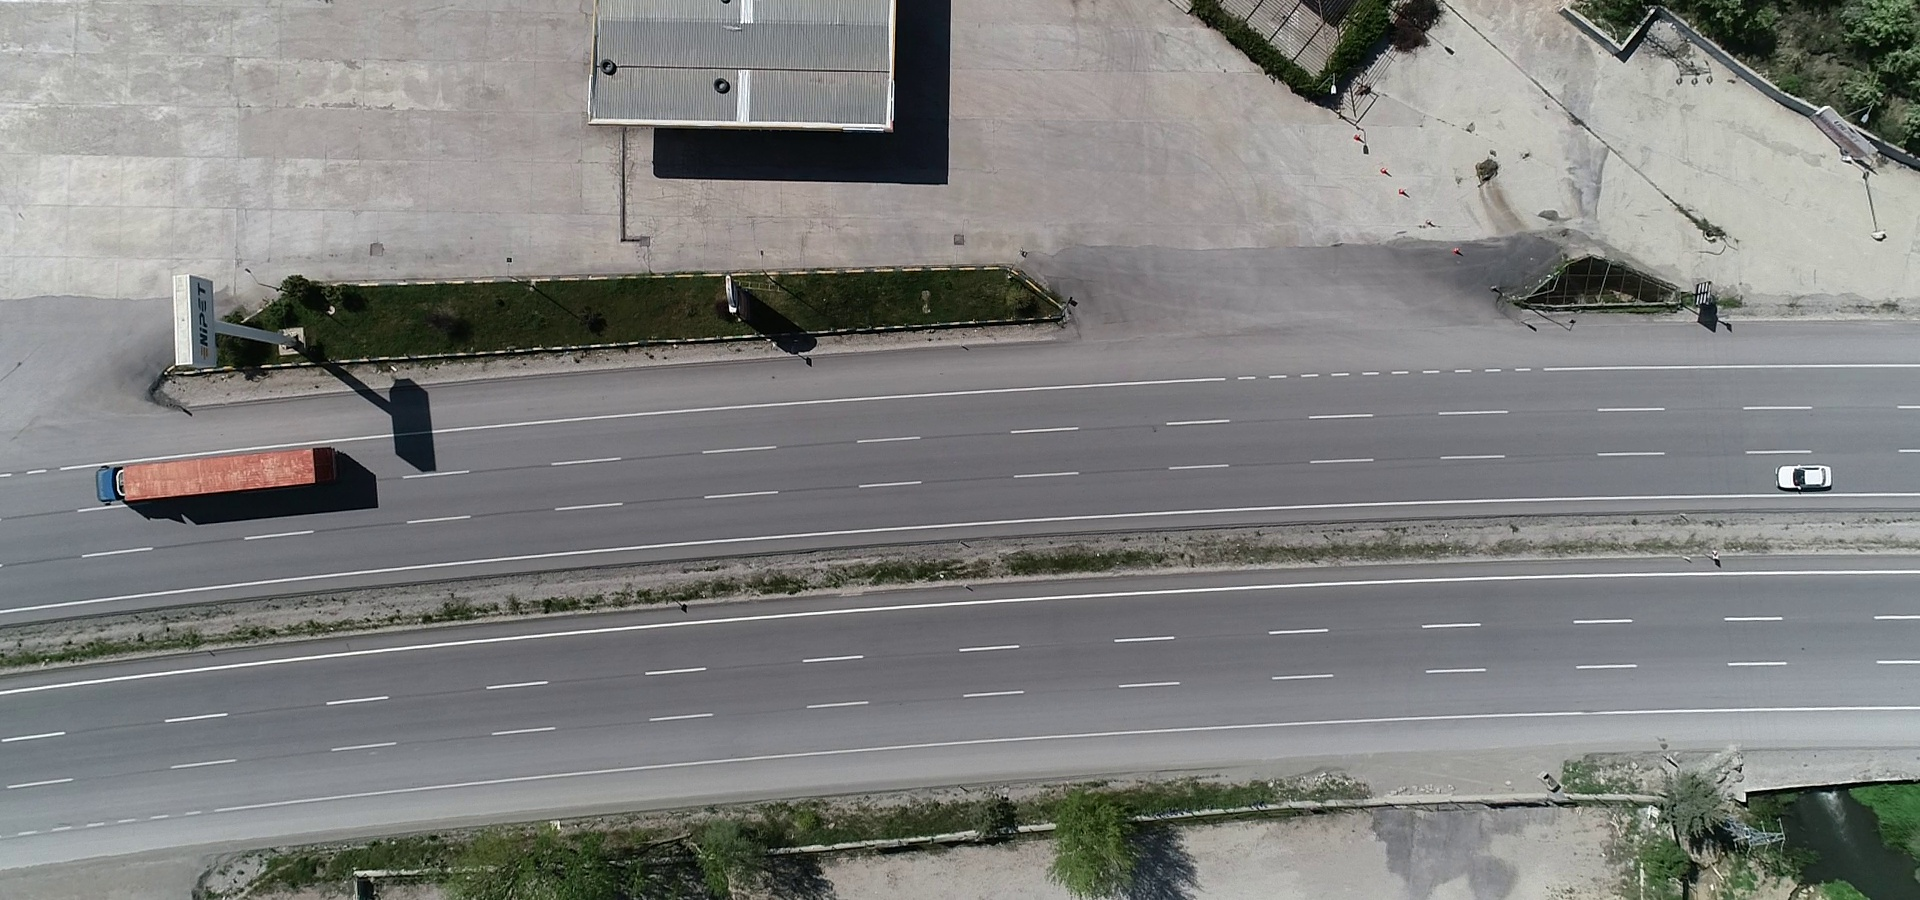arac: (92, 438, 348, 522), (1764, 458, 1839, 493)
